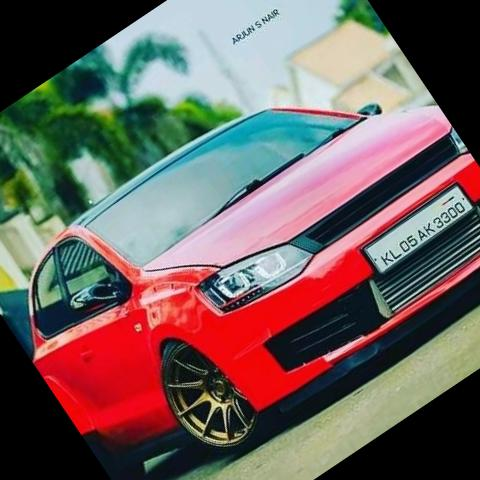plate: (355, 164, 480, 292)
